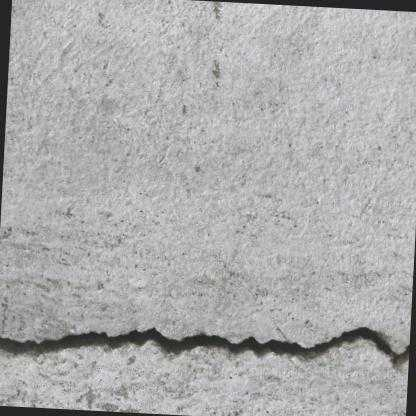crack: (0, 325, 409, 369)
